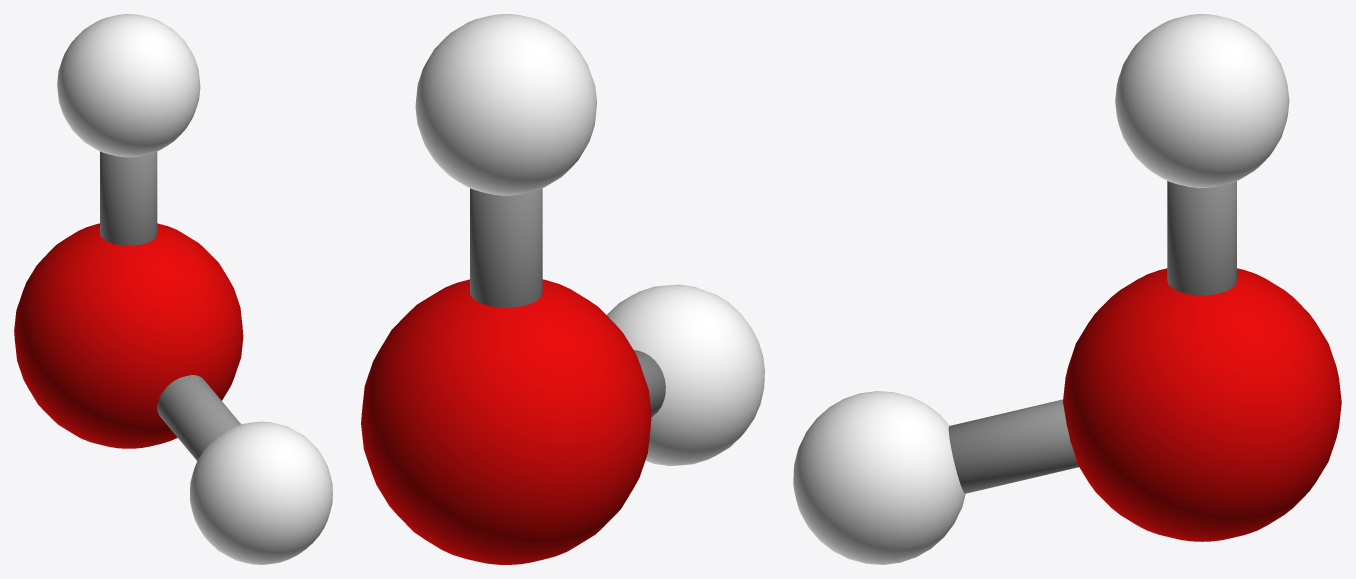
File: hho.fbx
3 views of the same model, side by side, from view 1: azimuth 30°, elevation 25°; view 2: azimuth 150°, elevation 25°; view 3: azimuth 270°, elevation 25° (orthographic). The views are drawn at different scales.
Parts seen in each view (by area): view 1: oxygen, hydrogen.001, hydrogen, bond, bond.001; view 2: oxygen, hydrogen, hydrogen.001, bond, bond.001; view 3: oxygen, hydrogen, hydrogen.001, bond.001, bond.
Boxes of the visible parts, left/top/right/bottom form: oxygen: left=14, top=223, right=243, bottom=448; hydrogen.001: left=190, top=421, right=332, bottom=564; hydrogen: left=57, top=14, right=200, bottom=157; bond: left=100, top=151, right=157, bottom=245; bond.001: left=157, top=375, right=240, bottom=460; oxygen: left=361, top=279, right=651, bottom=564; hydrogen: left=415, top=14, right=596, bottom=195; hydrogen.001: left=607, top=284, right=764, bottom=465; bond: left=470, top=188, right=542, bottom=307; bond.001: left=634, top=350, right=665, bottom=416; oxygen: left=1063, top=268, right=1341, bottom=541; hydrogen: left=1115, top=14, right=1289, bottom=187; hydrogen.001: left=793, top=391, right=965, bottom=564; bond.001: left=948, top=399, right=1078, bottom=493; bond: left=1167, top=181, right=1236, bottom=295.
Size of the model in its own units: 160 by 338 by 315.
